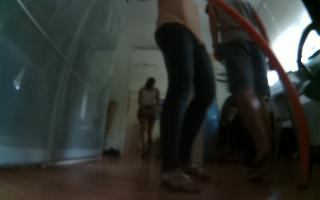person: (205, 1, 288, 183), (151, 1, 224, 200), (131, 72, 162, 157)
